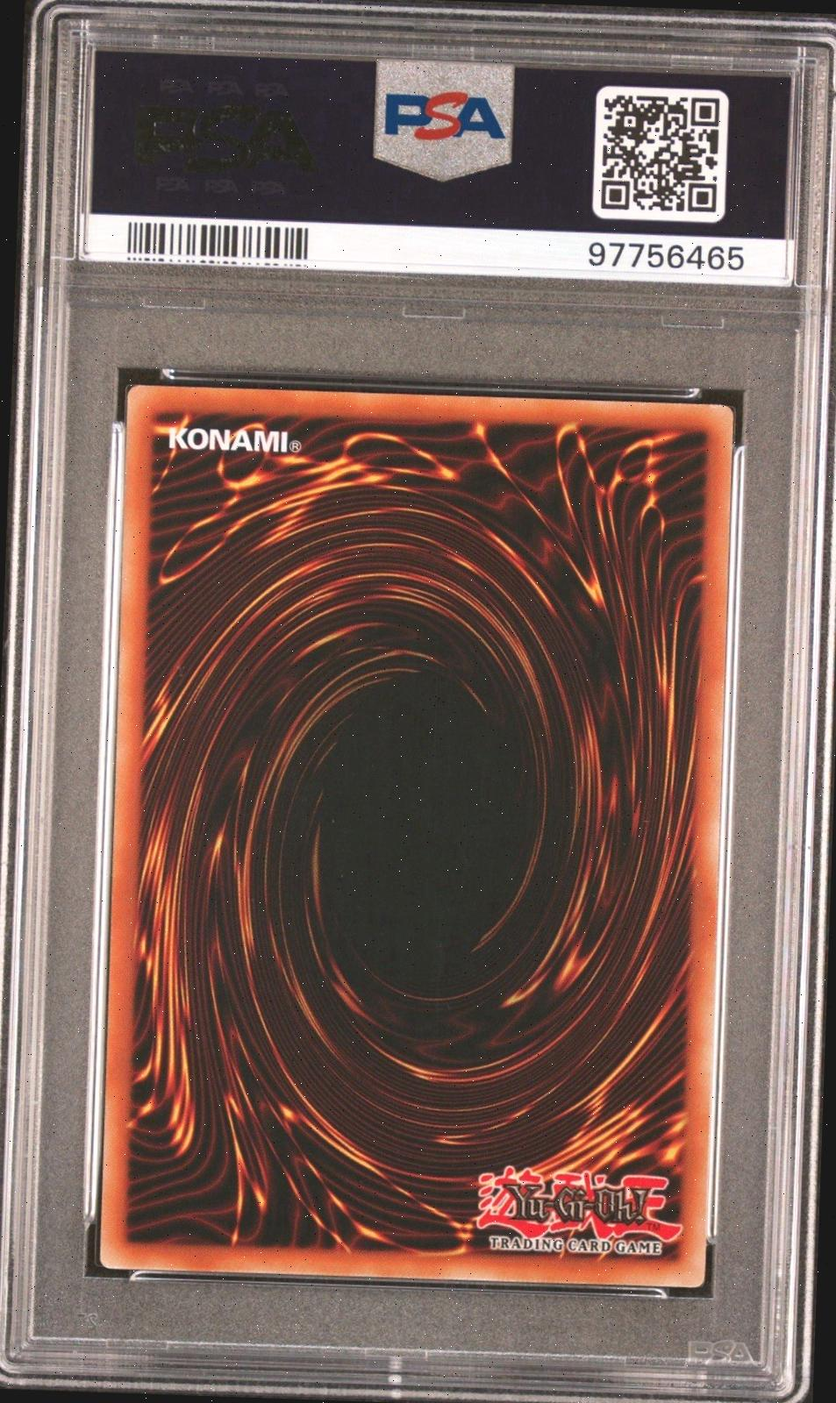card-2UtV: (99, 384, 733, 1288)
